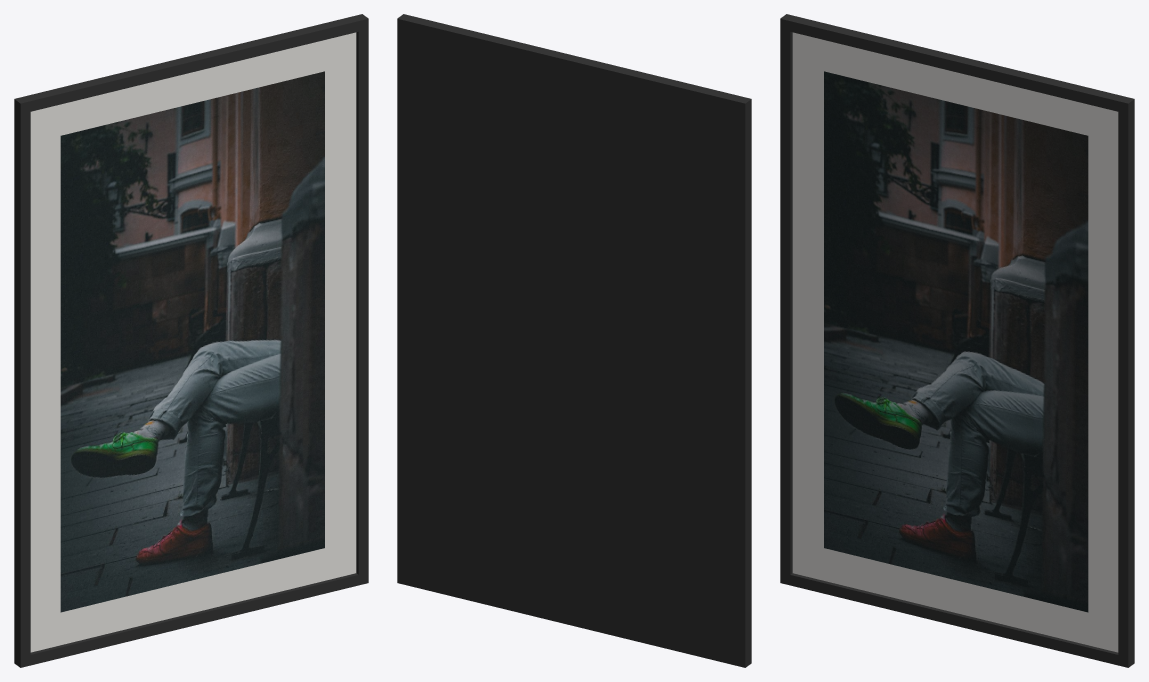
Rendered from skorna-90.gltf.
3 renders of one model, left to right at view 1: azimuth 30°, elevation 25°; view 2: azimuth 150°, elevation 25°; view 3: azimuth 330°, elevation 25°, orthographic.
Visible parts, largest first — view 1: tavla; view 2: tavla; view 3: tavla.
Part boxes in pixels (x1=…): tavla: x1=14, y1=14, x2=368, y2=667; tavla: x1=397, y1=14, x2=751, y2=667; tavla: x1=780, y1=14, x2=1134, y2=667.
Bounding box in the file's own units: 0.688 × 1.07 × 0.022.
3 materials, 1 textured.
